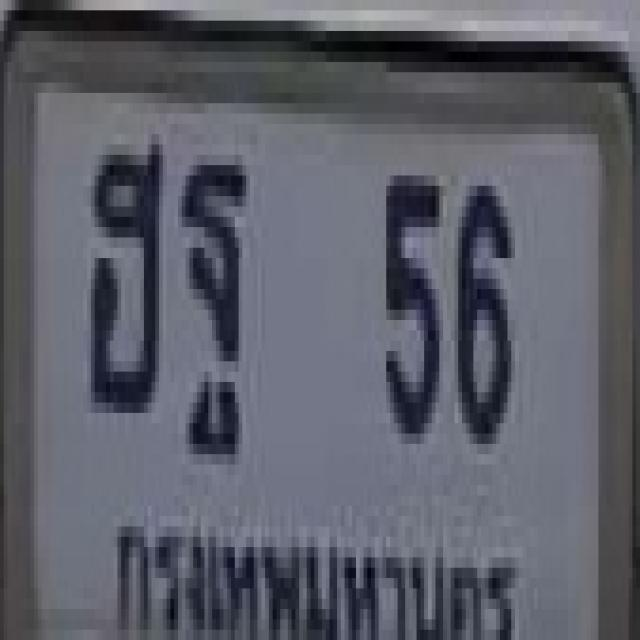5: (382, 160, 436, 428)
6: (454, 175, 508, 434)
A16: (178, 155, 242, 413)
A44: (87, 134, 159, 403)
BKK: (110, 497, 520, 640)
